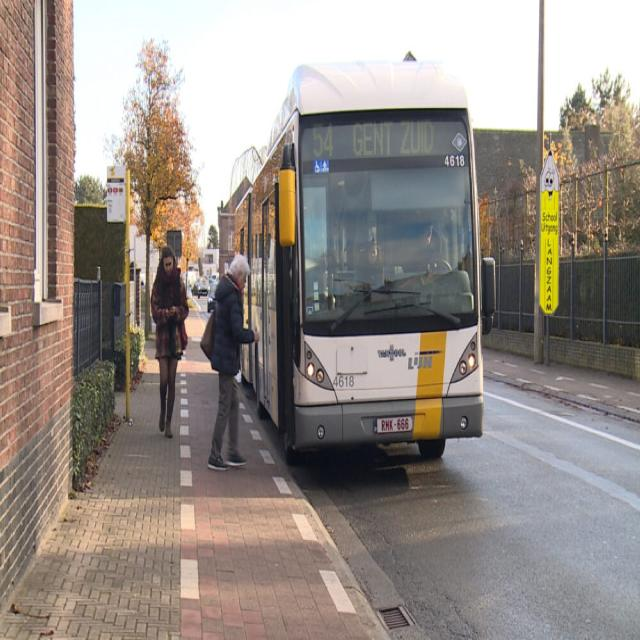bus-number: (310, 122, 336, 160)
